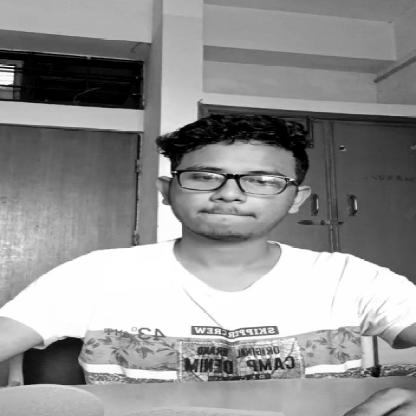Normal: (169, 118, 309, 243)
